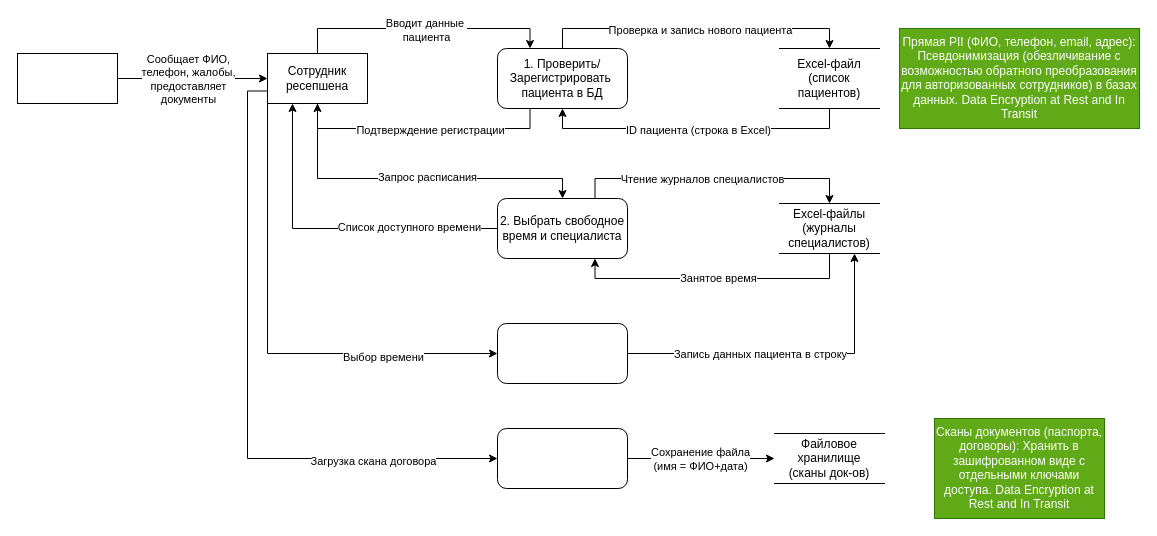
Some shapes in this 1157 by 536 pixel diagram are drawn without their labels. The shapes that lost their labels are listed below. From the top down, each one's box as (x1, y1, x2, y2) in pixels, then its label:
(16, 52, 118, 104): Пациент
(496, 322, 628, 384): 3. Зафиксировать запись в журнале специалиста
(496, 428, 628, 488): 4. Сохранить скан договора
